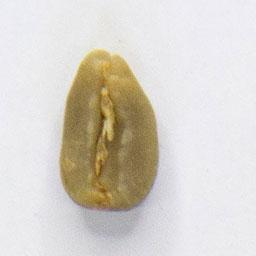longberry: (55, 46, 162, 216)
